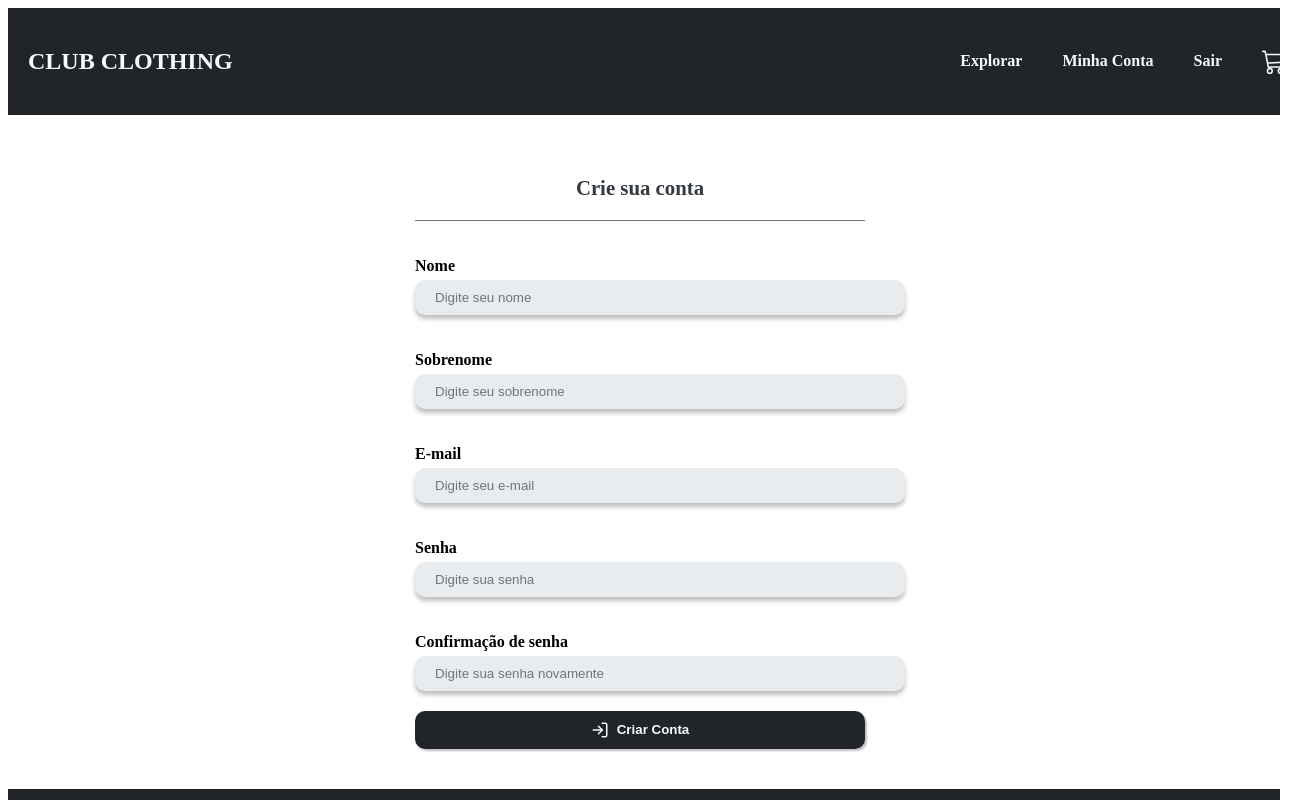
Sign Up › should show error when trying to submit without filling all required fields
The image size is (1292, 800).
Click the button "Criar Conta" at (640, 730), box 415,711 -> 865,749
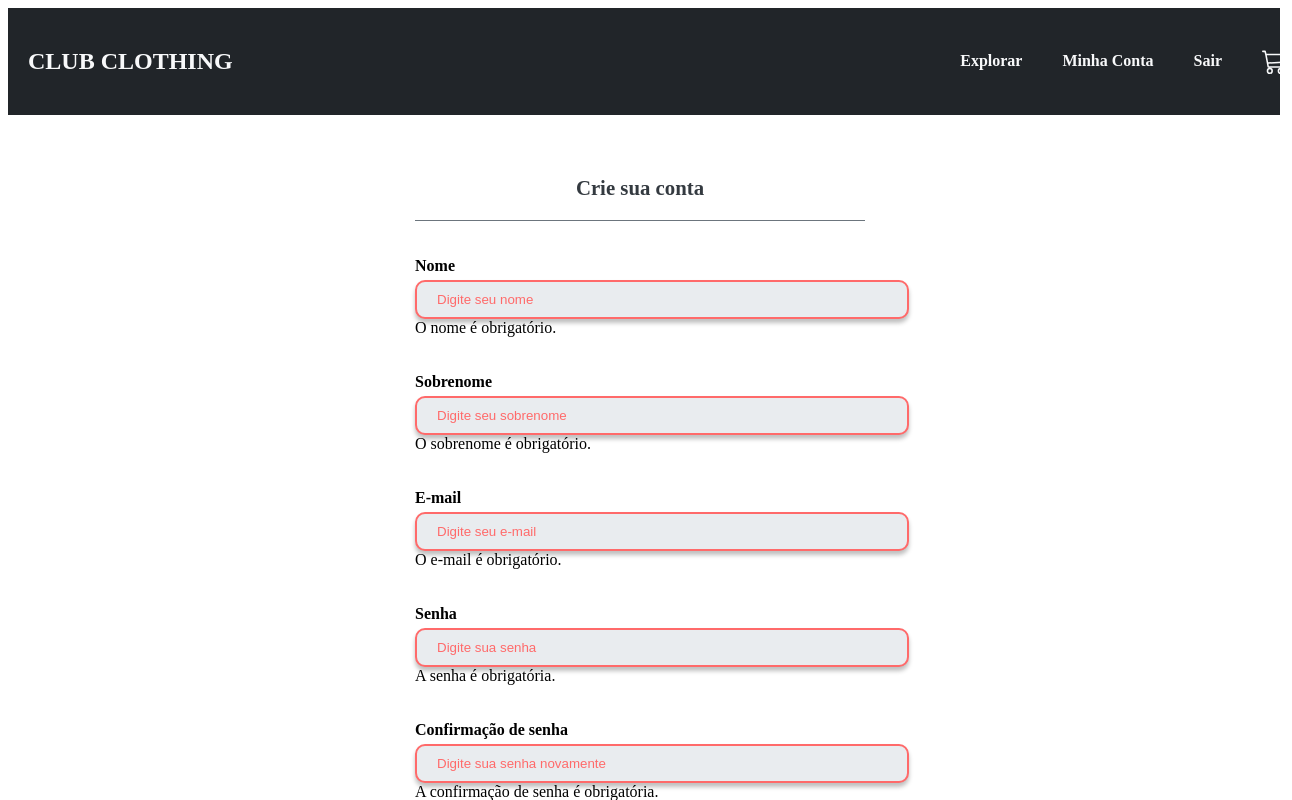
Expected: the text "O nome é obrigatório." is shown, 415,319 -> 556,336
Expected: the text "O sobrenome é obrigatório." is shown, 415,435 -> 591,452
Expected: the text "O e-mail é obrigatório." is shown, 415,551 -> 562,568
